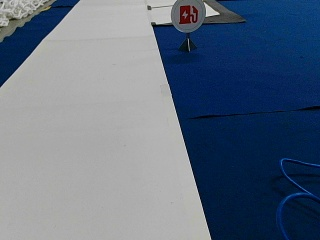battery: (169, 0, 205, 32)
